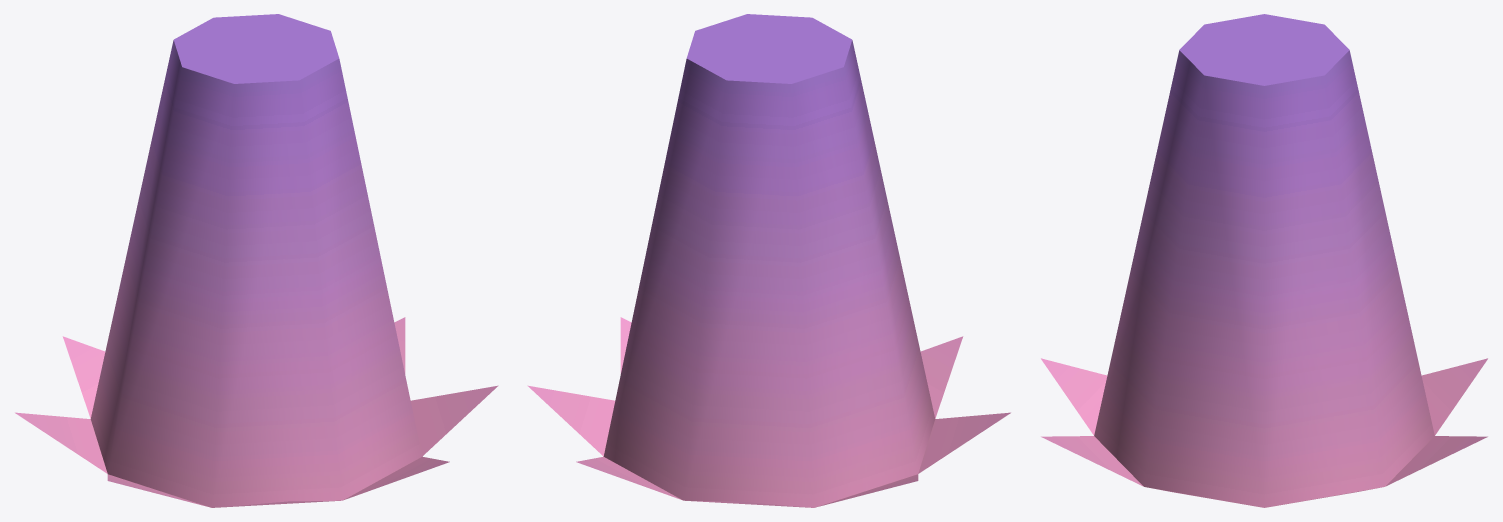
The model's file is enemy-ufo-beam-burst.glb.
The picture shows the model from 3 angles, left to right: view 1: azimuth 30°, elevation 25°; view 2: azimuth 150°, elevation 25°; view 3: azimuth 270°, elevation 25°; orthographic projection.
Visible parts, largest first — view 1: enemy-ufo-beam-burst; view 2: enemy-ufo-beam-burst; view 3: enemy-ufo-beam-burst.
Boxes of the visible parts, x1=… form: enemy-ufo-beam-burst: x1=15, y1=14, x2=498, y2=507; enemy-ufo-beam-burst: x1=527, y1=14, x2=1010, y2=507; enemy-ufo-beam-burst: x1=1041, y1=14, x2=1487, y2=507.
Bounding box in the file's own units: 1.05 × 1 × 1.05.
Materials: 1 (1 with a texture image).
